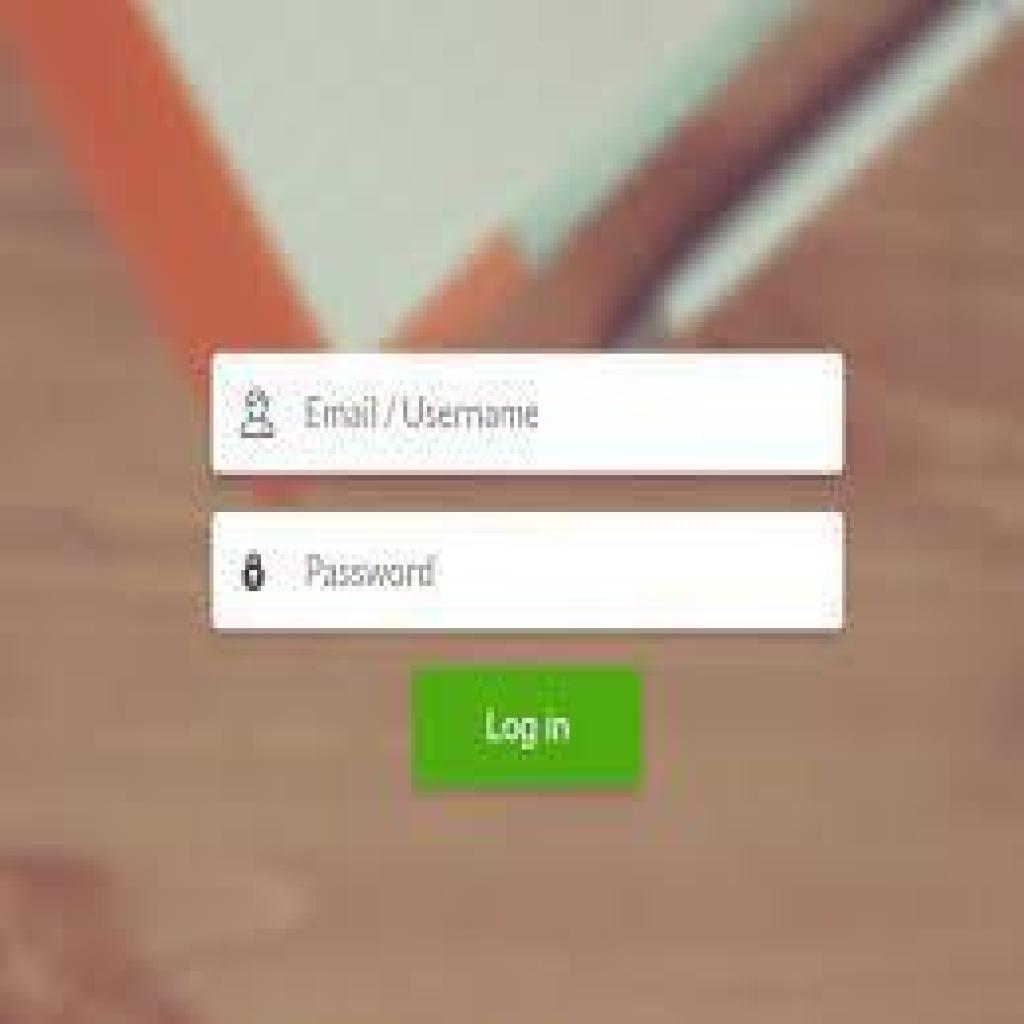button: (415, 665, 645, 781)
input: (214, 348, 842, 475), (214, 507, 842, 628)
